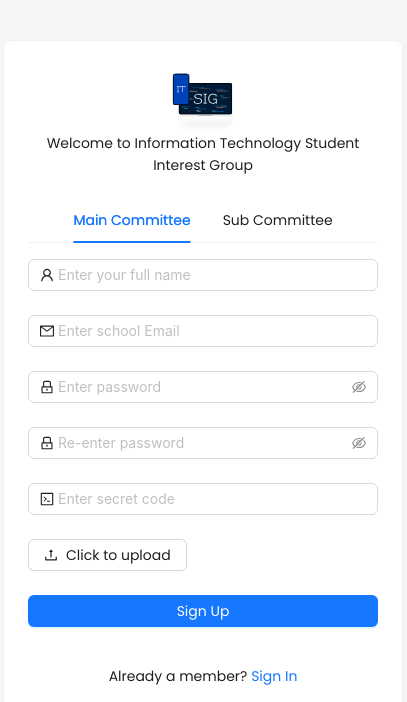
SignUpForm Tests › allows a user to sign up as a  Sub Committee member
Step 1. Click the tab "Sub Committee" → click(278, 220), box [223,209,333,231]
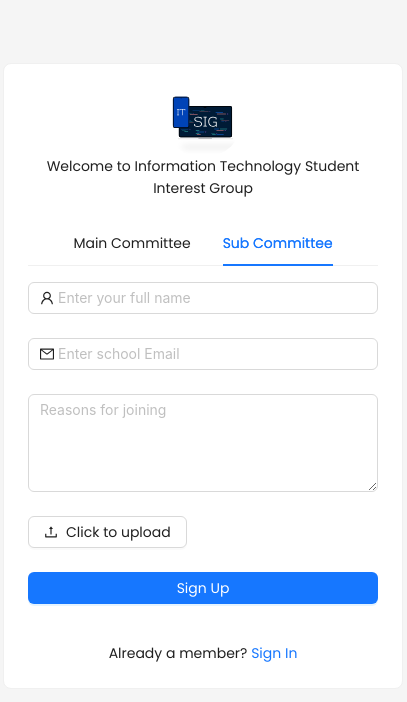
Step 2. Type "Swan Htet Aung" into the field with id "sign-up-sub-name" → (212, 298), box [58,287,366,309]
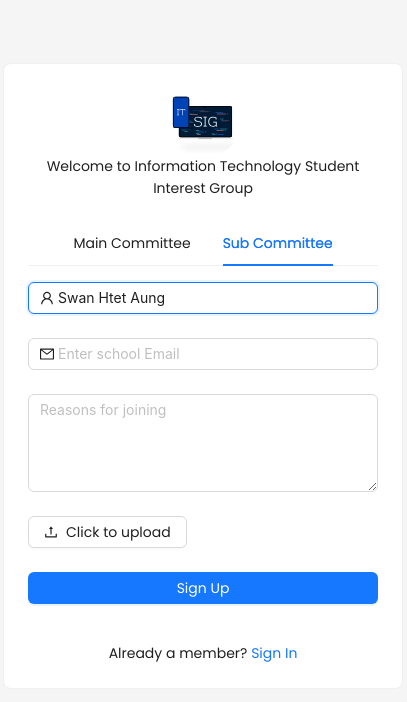
Step 3. Type "swanhtetaung@gmail.com" into the field with id "sign-up-sub-email" → (212, 354), box [58,343,366,365]
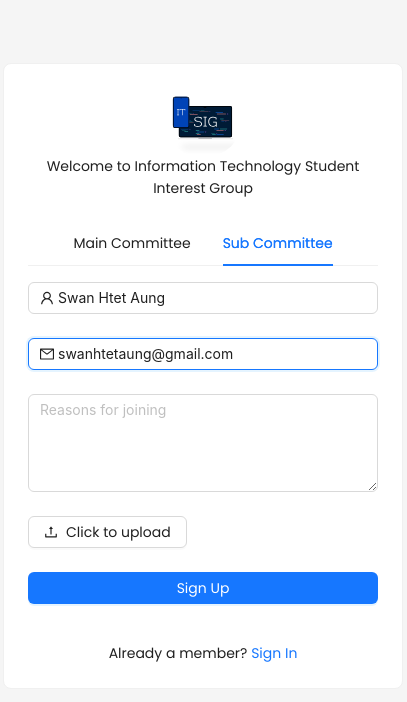
Step 4. Type "I really want to join" into the text box with id "sign-up-sub-reason" → (203, 443), box [28,394,378,492]
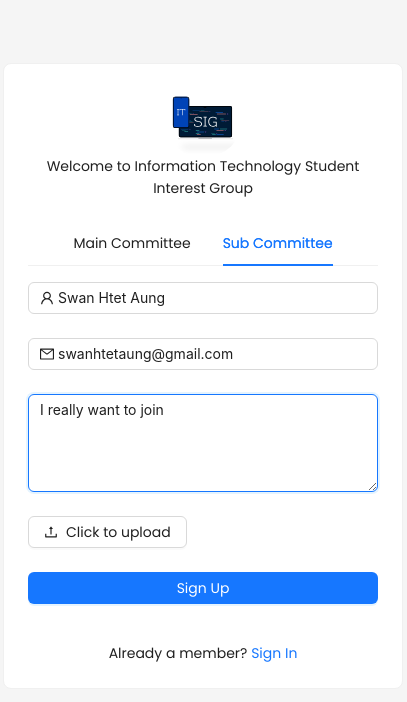
Step 5. Click the button with id "submit-sub" → click(203, 588), box [28,572,378,604]
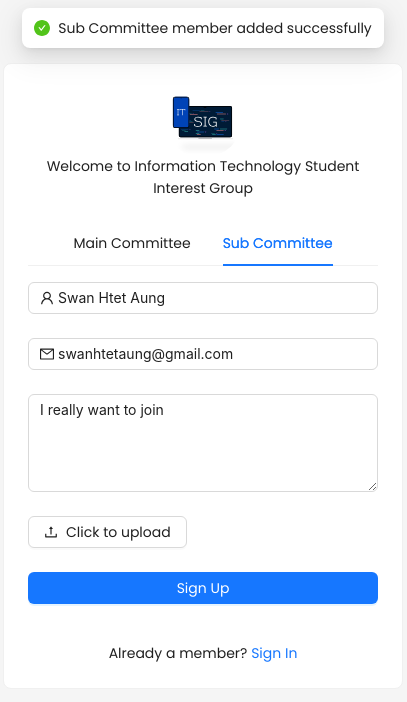
Now the text "Sub Committee member added successfully" is shown, box [58,17,372,39]
